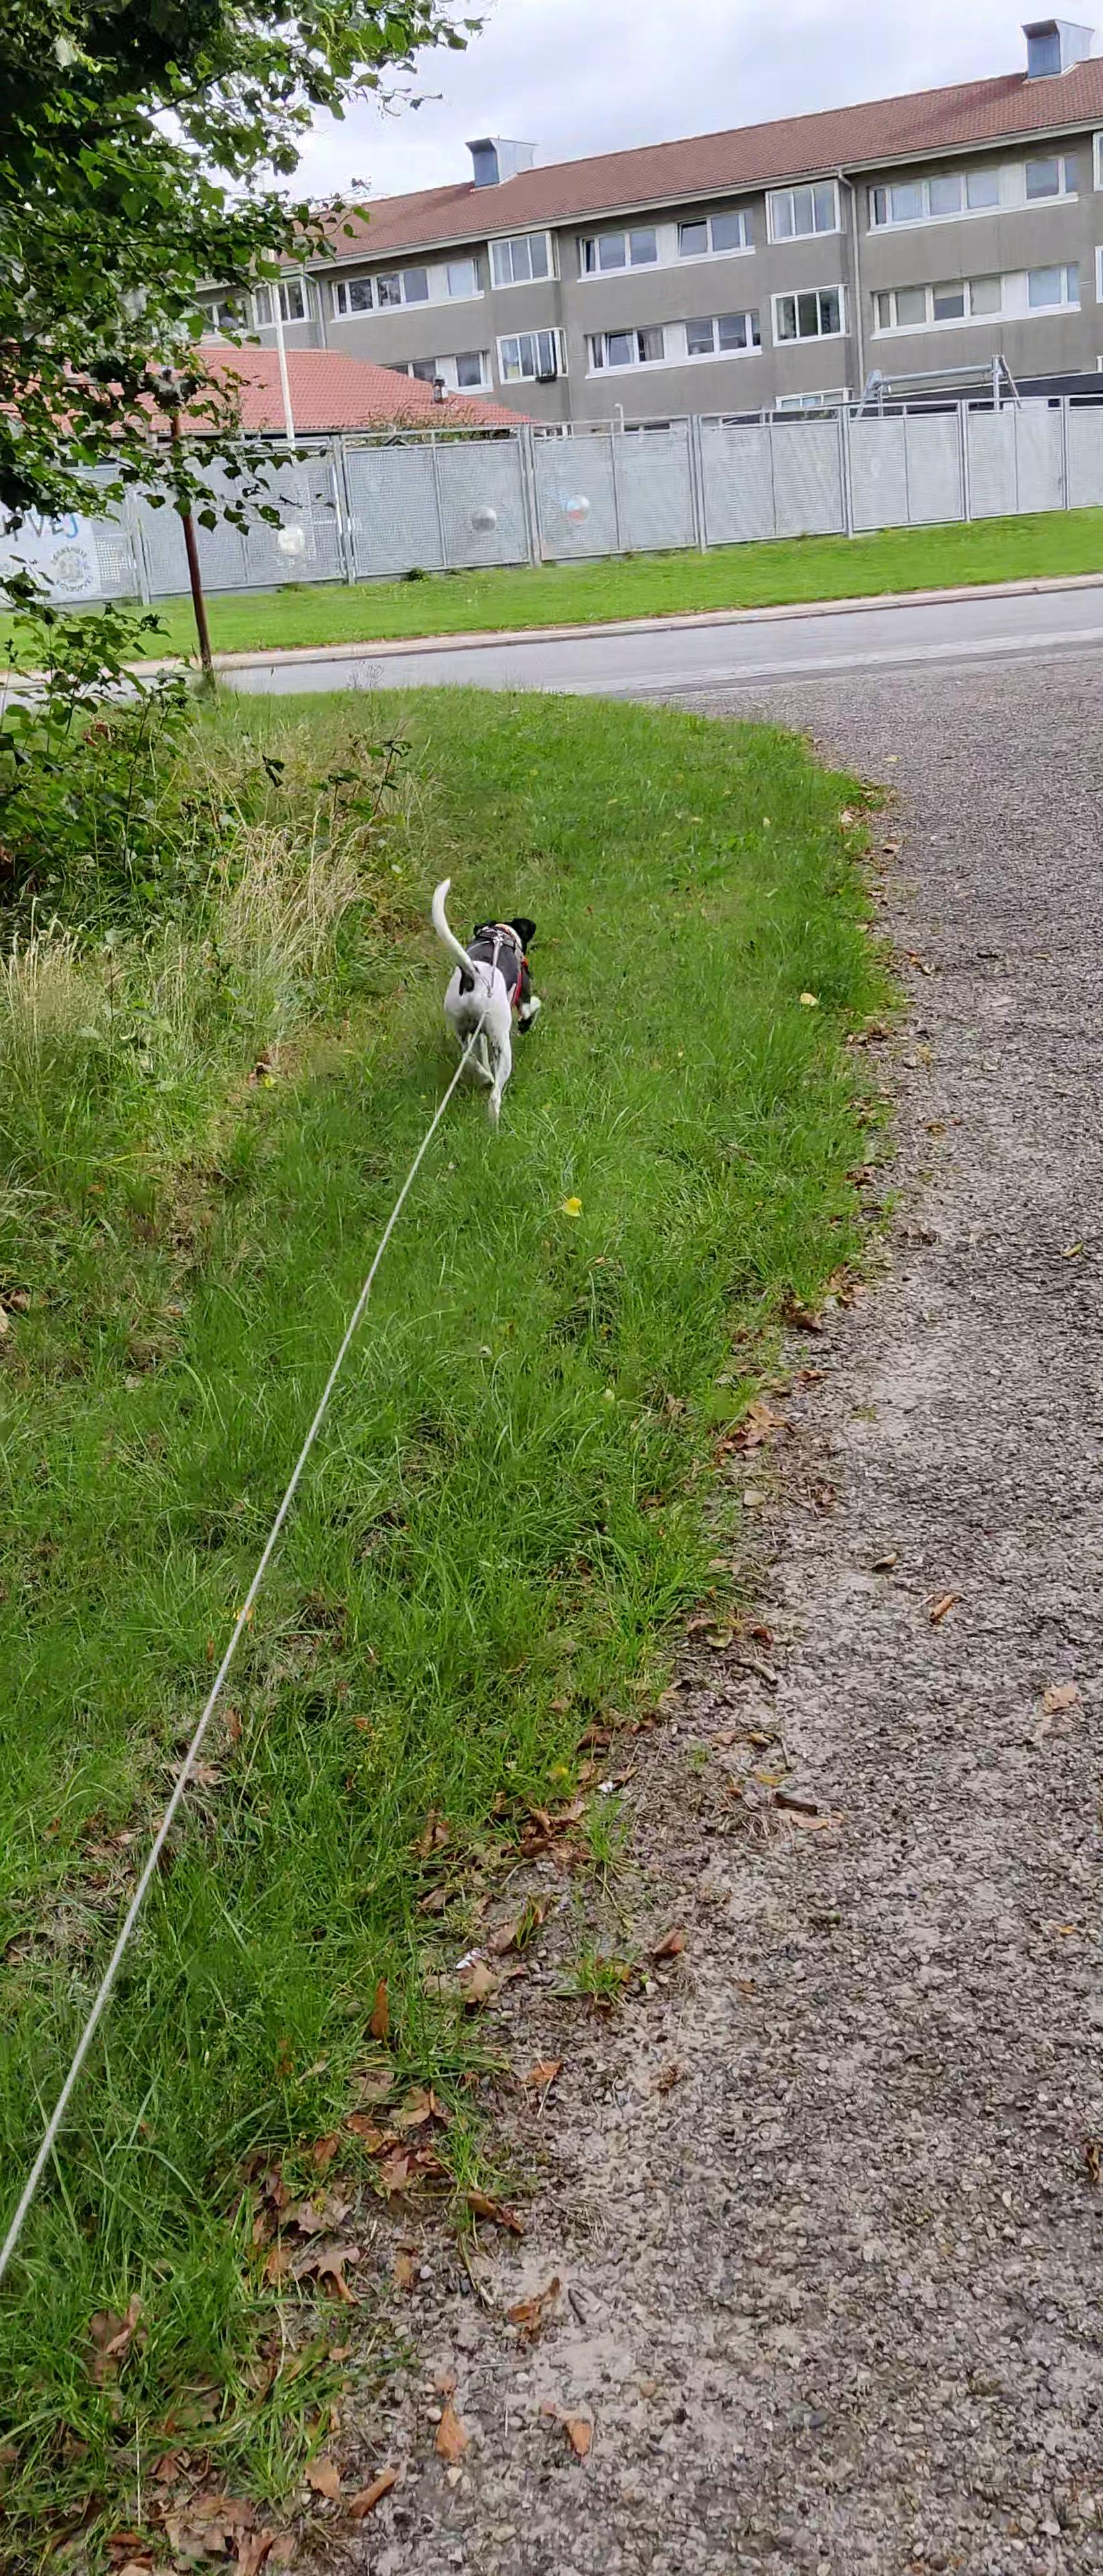Dog: (401, 858, 580, 1153)
